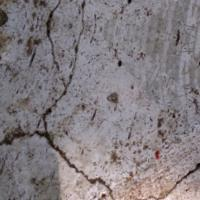crack: (8, 79, 161, 199)
